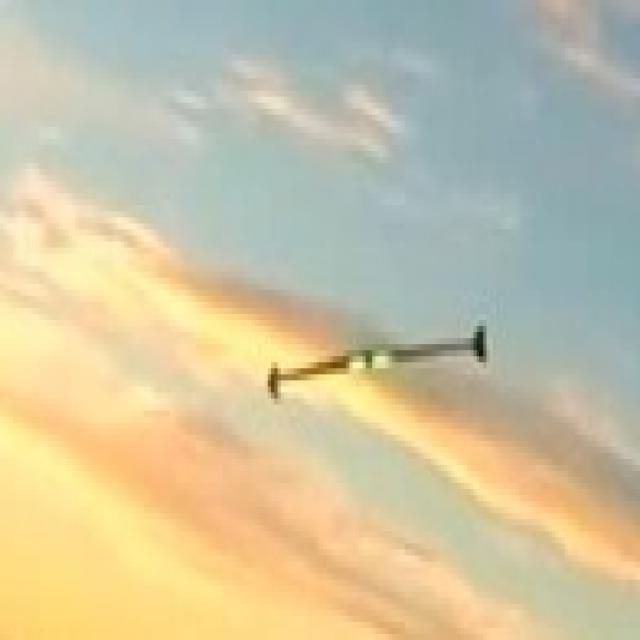iha: (261, 351, 495, 373), (41, 127, 61, 140)
